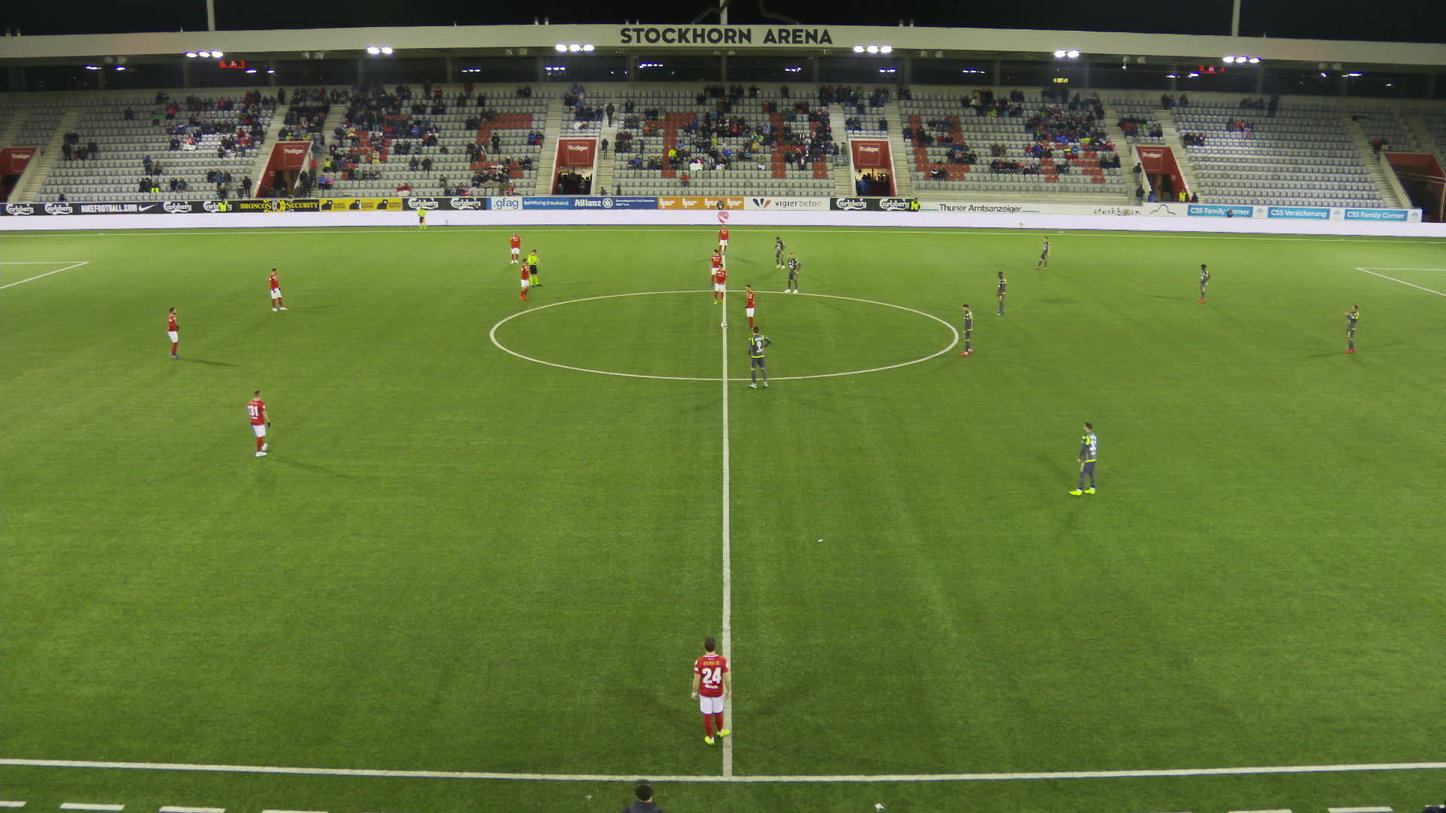ball: (721, 321, 727, 327)
player: (689, 635, 735, 744), (1069, 422, 1096, 495), (247, 390, 270, 456), (749, 328, 773, 386), (269, 266, 288, 311), (1343, 303, 1359, 351), (960, 303, 974, 355), (167, 307, 180, 358), (784, 252, 800, 291), (713, 263, 727, 303), (1036, 236, 1050, 269), (1198, 264, 1210, 302), (996, 270, 1006, 314), (745, 284, 755, 327), (519, 257, 529, 300), (710, 249, 722, 283), (773, 236, 785, 269), (510, 231, 520, 263), (718, 224, 729, 252)
referee: (527, 250, 542, 288), (418, 208, 426, 228)
